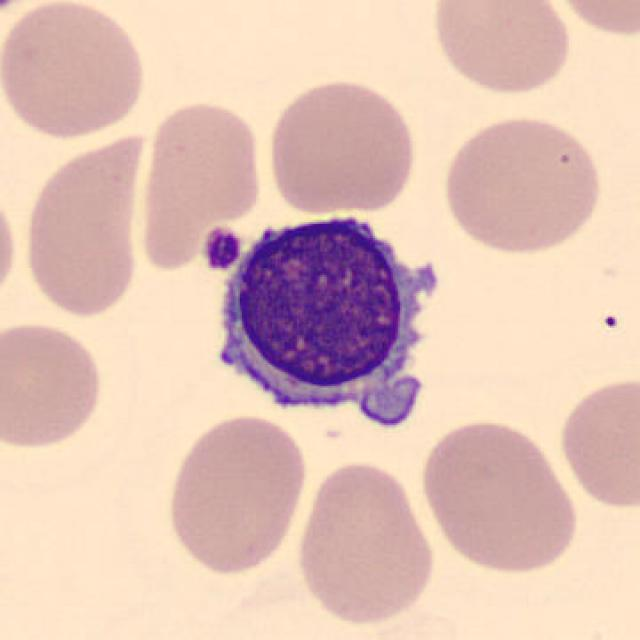Lymphocyte: (190, 199, 457, 436)
Platelets: (199, 224, 244, 275)
RBC: (416, 414, 583, 576), (292, 455, 439, 629), (20, 127, 151, 321), (160, 411, 311, 578), (438, 111, 606, 257), (135, 95, 267, 272), (263, 74, 420, 217), (0, 0, 149, 143), (427, 0, 576, 99), (0, 317, 107, 453), (554, 370, 640, 513), (546, 0, 638, 39), (0, 178, 21, 314)
